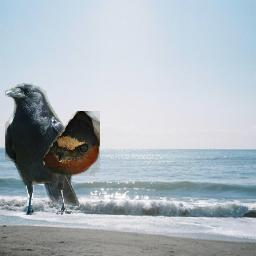Crow: (5, 83, 80, 215)
Swallow: (43, 111, 100, 176)
